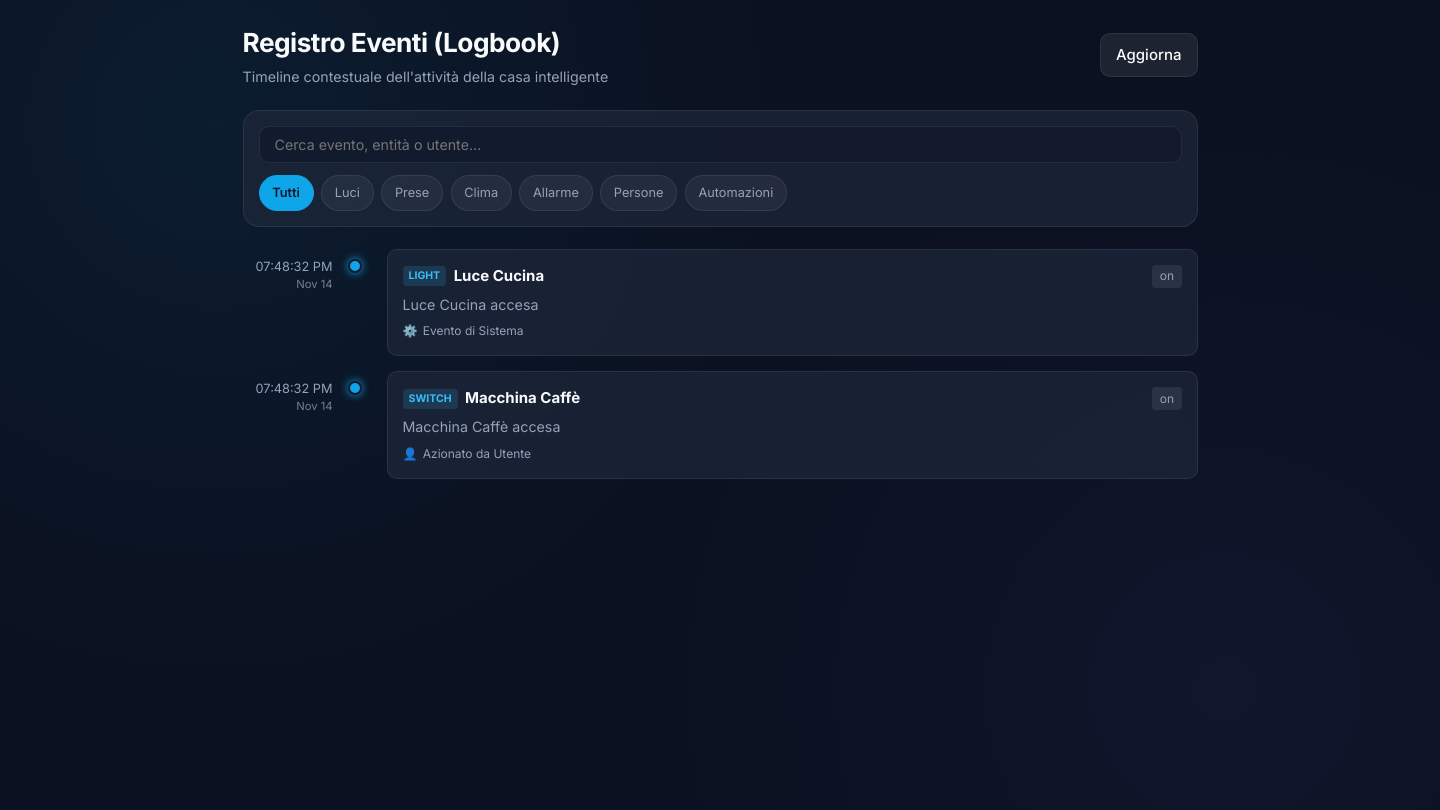
Test: LogbookView.vue › filters entries when search query is entered
The width and height of the screenshot is (1440, 810).
Expected: the number of list items with class "timeline-item" is 2, [242, 249, 1198, 356]; [242, 371, 1198, 479]
Type "Caffè" into the search field with placeholder "Cerca evento, entità o utente..." at [720, 144], box [258, 126, 1182, 163]
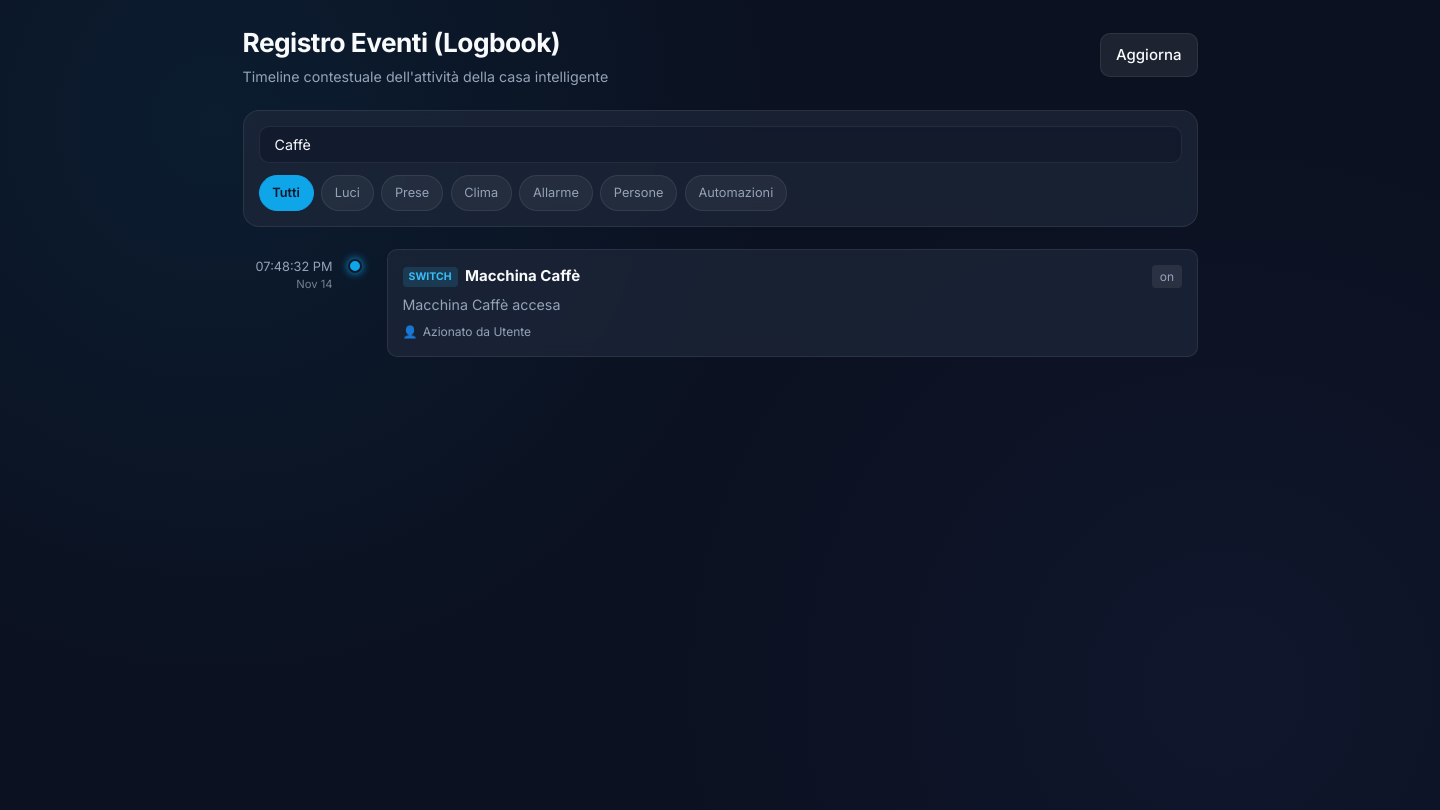
Expected: the text "Macchina Caffè" is shown, [465, 265, 580, 288]
Result: the number of list items with class "timeline-item" is 1 at [242, 249, 1198, 356]
Result: the text "Luce Cucina" is gone
